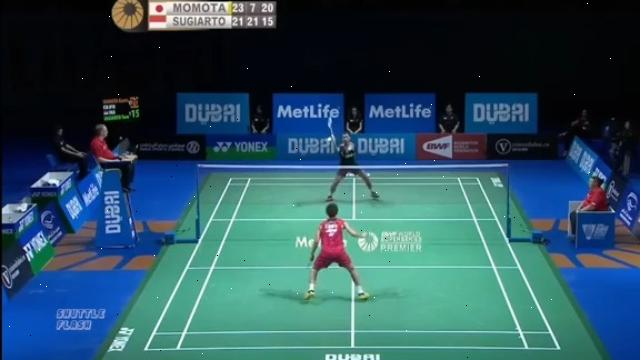Shuttlecock: (326, 136, 334, 146)
